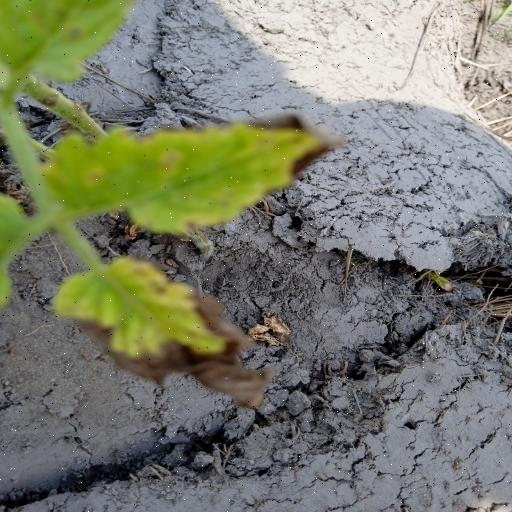Tomato_Brown_Spots: (48, 252, 281, 414)
